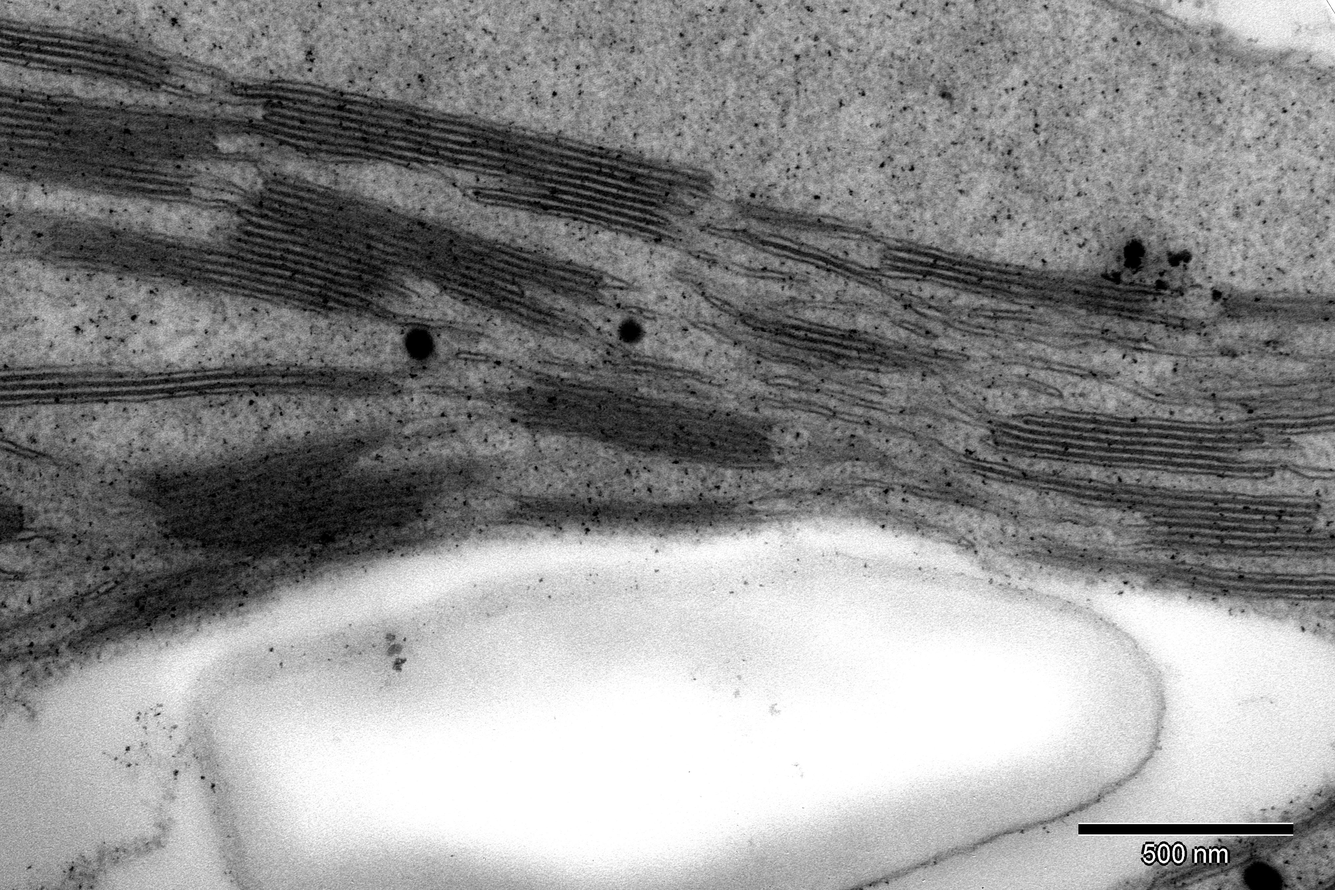granum: (35, 164, 459, 327), (137, 418, 487, 567), (437, 109, 719, 248), (0, 78, 223, 211), (511, 367, 778, 475), (204, 62, 443, 180), (876, 228, 1155, 328), (1071, 474, 1335, 563), (432, 226, 609, 351), (988, 403, 1267, 480), (0, 359, 397, 410), (727, 297, 937, 380), (0, 11, 180, 96), (502, 487, 762, 539), (119, 558, 273, 633), (1146, 555, 1335, 604), (1222, 371, 1335, 438), (1214, 276, 1335, 329), (1026, 529, 1116, 579), (1, 503, 28, 548)
